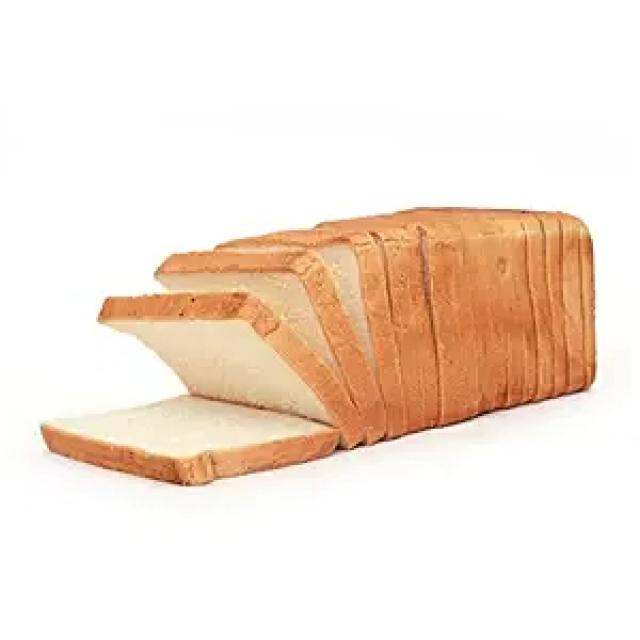Bread: (95, 190, 619, 443), (34, 382, 340, 496)
